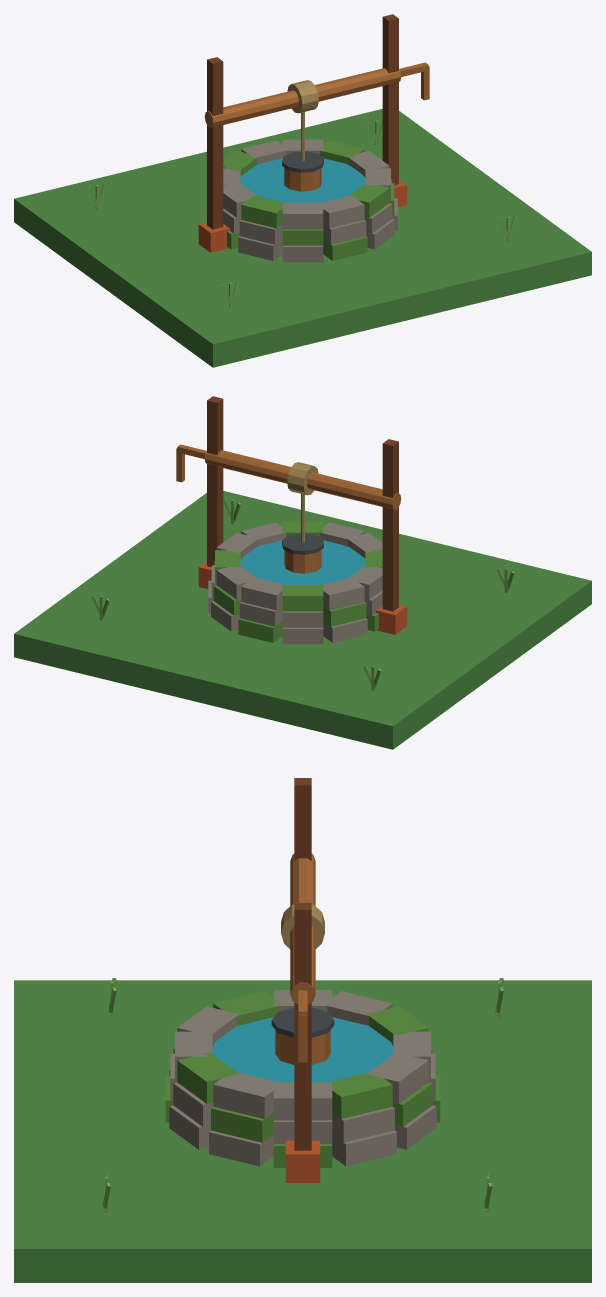
The model's file is stone_well.glb.
3 renders of one model, top to bottom at view 1: azimuth 30°, elevation 25°; view 2: azimuth 150°, elevation 25°; view 3: azimuth 270°, elevation 25°, orthographic. The views are drawn at different scales.
Parts seen in each view (by area): view 1: TerrainBase, WellWater, WellAxle, WellPost, WellPost.001, WellStone.032, WellStone.033, WellStone.031, WellStone.034, WellStone.007, WellStone.009, WellStone.008 (+16 smaller); view 2: TerrainBase, WellWater, WellAxle, WellPost, WellPost.001, WellStone.028, WellStone.029, WellStone.027, WellStone.026, WellStone.003, WellStone.005, WellStone.004 (+16 smaller); view 3: TerrainBase, WellWater, WellPost.001, WellStone.025, WellStone.035, WellAxle, WellStone.026, WellStone.034, WellStone.024, WellStone.001, WellStone.011, WellStone.013 (+18 smaller).
Boxes of the visible parts, left/top/right/bottom form: TerrainBase: left=14, top=109, right=591, bottom=367; WellWater: left=240, top=158, right=365, bottom=202; WellAxle: left=204, top=68, right=401, bottom=127; WellPost: left=207, top=57, right=223, bottom=229; WellPost.001: left=382, top=14, right=398, bottom=185; WellStone.032: left=282, top=203, right=323, bottom=229; WellStone.033: left=321, top=195, right=364, bottom=228; WellStone.031: left=241, top=195, right=284, bottom=228; WellStone.034: left=349, top=184, right=389, bottom=217; WellStone.007: left=238, top=236, right=282, bottom=260; WellStone.009: left=323, top=236, right=367, bottom=260; WellStone.008: left=282, top=245, right=323, bottom=262; TerrainBase: left=14, top=491, right=591, bottom=749; WellWater: left=240, top=540, right=365, bottom=584; WellAxle: left=204, top=450, right=401, bottom=509; WellPost: left=382, top=439, right=398, bottom=611; WellPost.001: left=207, top=396, right=223, bottom=567; WellStone.028: left=282, top=585, right=323, bottom=611; WellStone.029: left=321, top=577, right=364, bottom=610; WellStone.027: left=241, top=577, right=284, bottom=610; WellStone.026: left=216, top=566, right=256, bottom=599; WellStone.003: left=238, top=618, right=282, bottom=642; WellStone.005: left=323, top=618, right=367, bottom=642; WellStone.004: left=282, top=627, right=323, bottom=644; TerrainBase: left=14, top=980, right=591, bottom=1282; WellWater: left=212, top=1017, right=393, bottom=1082; WellPost.001: left=294, top=902, right=311, bottom=1150; WellStone.025: left=328, top=1072, right=392, bottom=1118; WellStone.035: left=213, top=1072, right=277, bottom=1118; WellAxle: left=290, top=854, right=315, bottom=1004; WellStone.026: left=367, top=1052, right=428, bottom=1103; WellStone.034: left=177, top=1052, right=238, bottom=1103; WellStone.024: left=273, top=1082, right=332, bottom=1120; WellStone.001: left=332, top=1130, right=396, bottom=1166; WellStone.011: left=209, top=1130, right=273, bottom=1166; WellStone.013: left=332, top=1106, right=394, bottom=1142.
Bounding box in the file's own units: 11 × 5.82 × 10.
